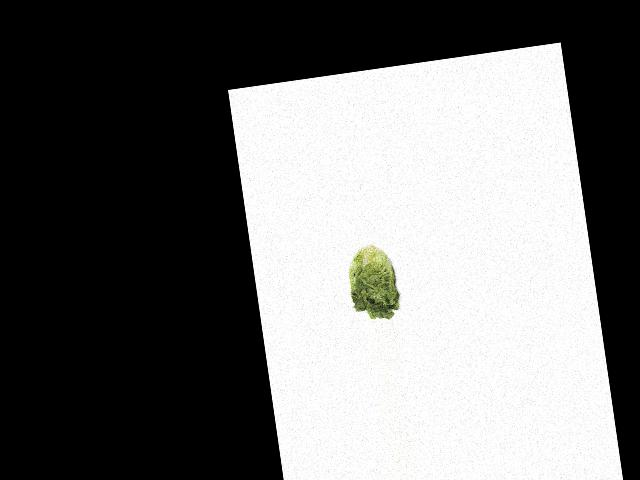lettuce: (339, 241, 405, 322)
